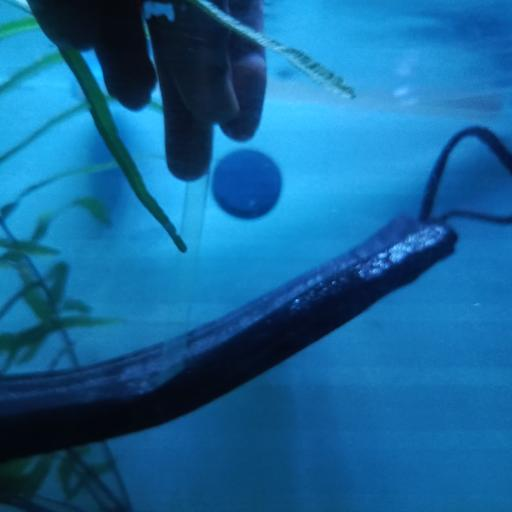bottle_cap: (214, 145, 285, 219)
glove: (26, 0, 265, 182)
mask: (0, 128, 512, 454)
plastic_straw: (150, 174, 206, 392)
